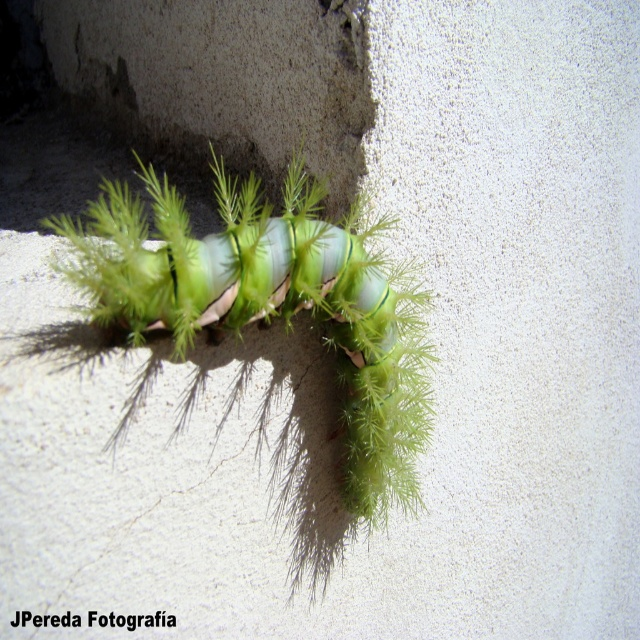Caterpillar: (40, 141, 436, 533)
